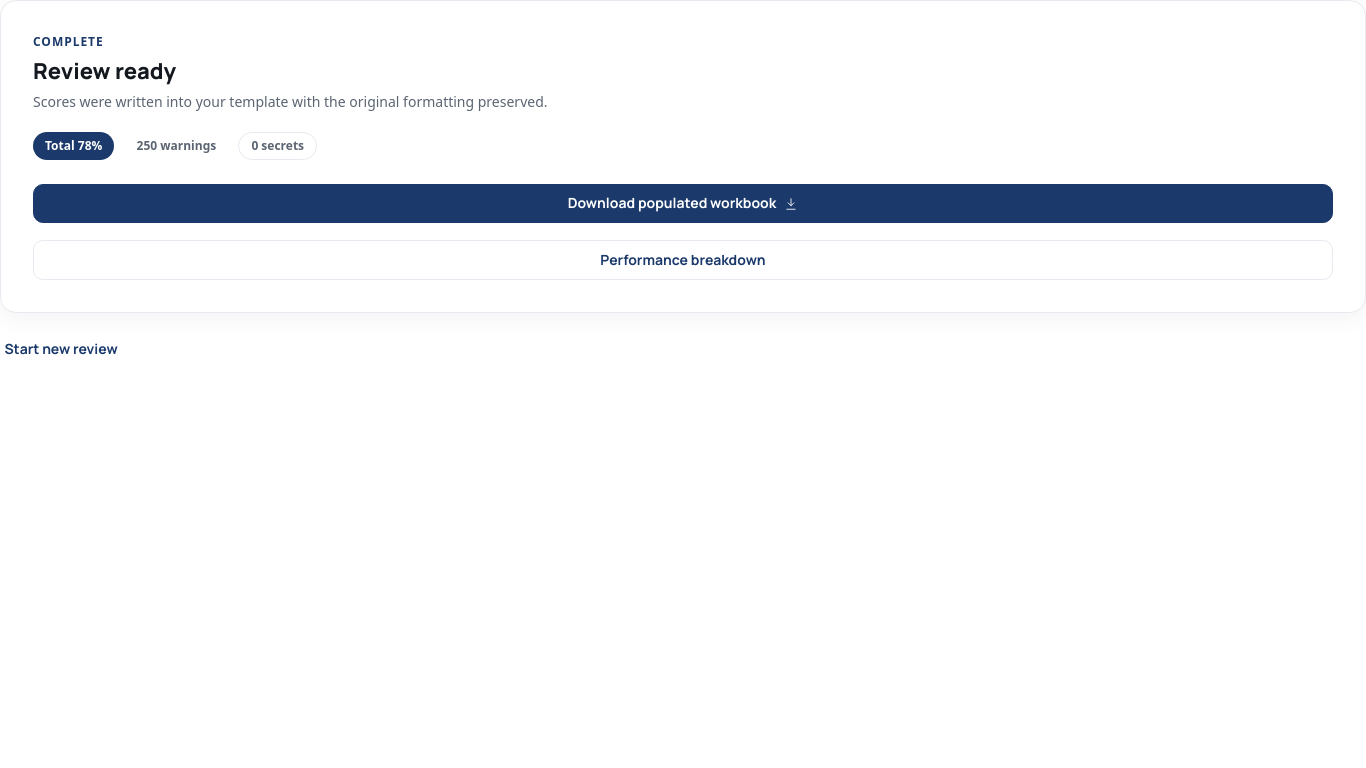
renders every item in a large warnings list -- the dialog scrolls, it doesn't truncate
Click the button "250 warnings". click: [176, 146]
box: x1=124 y1=132 x2=228 y2=160
(page scrolled)
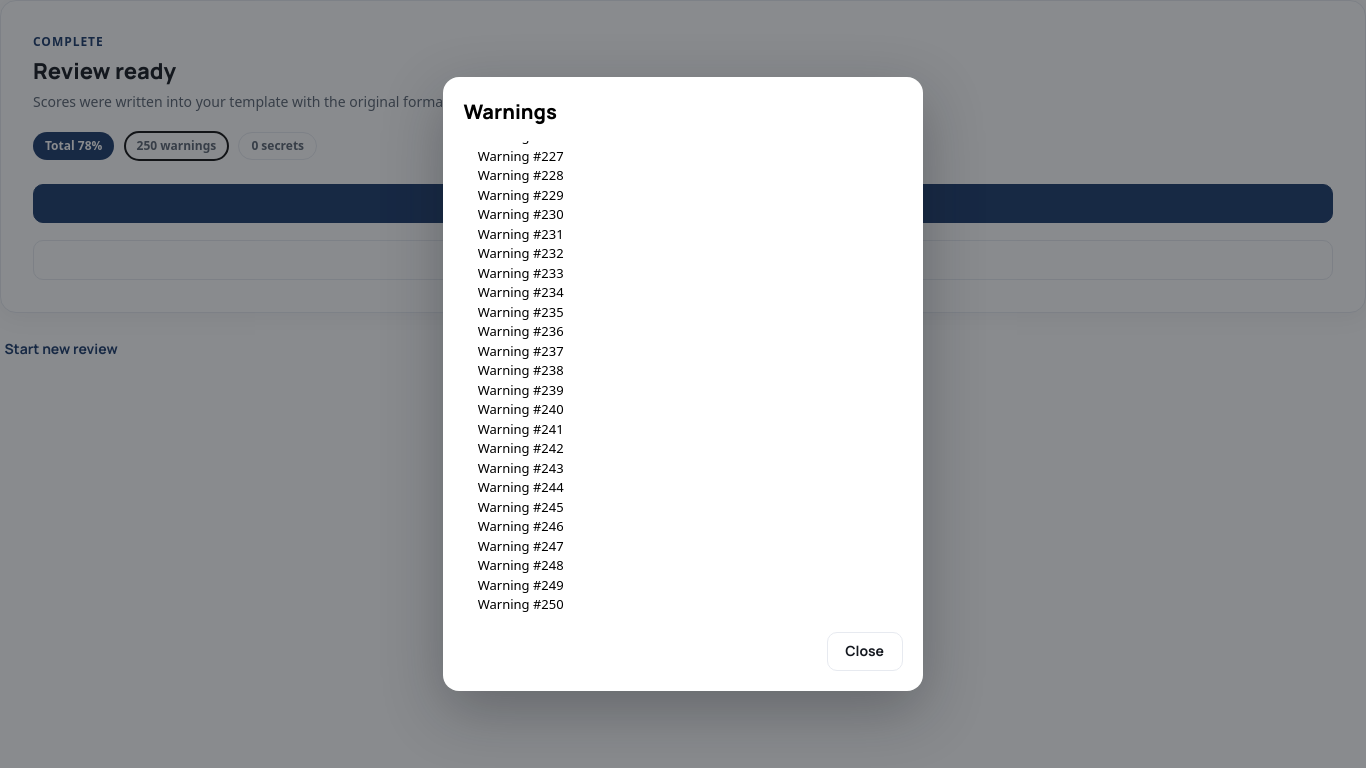
Expected: the list item "Warning #250" is shown, x1=478 y1=595 x2=564 y2=613
